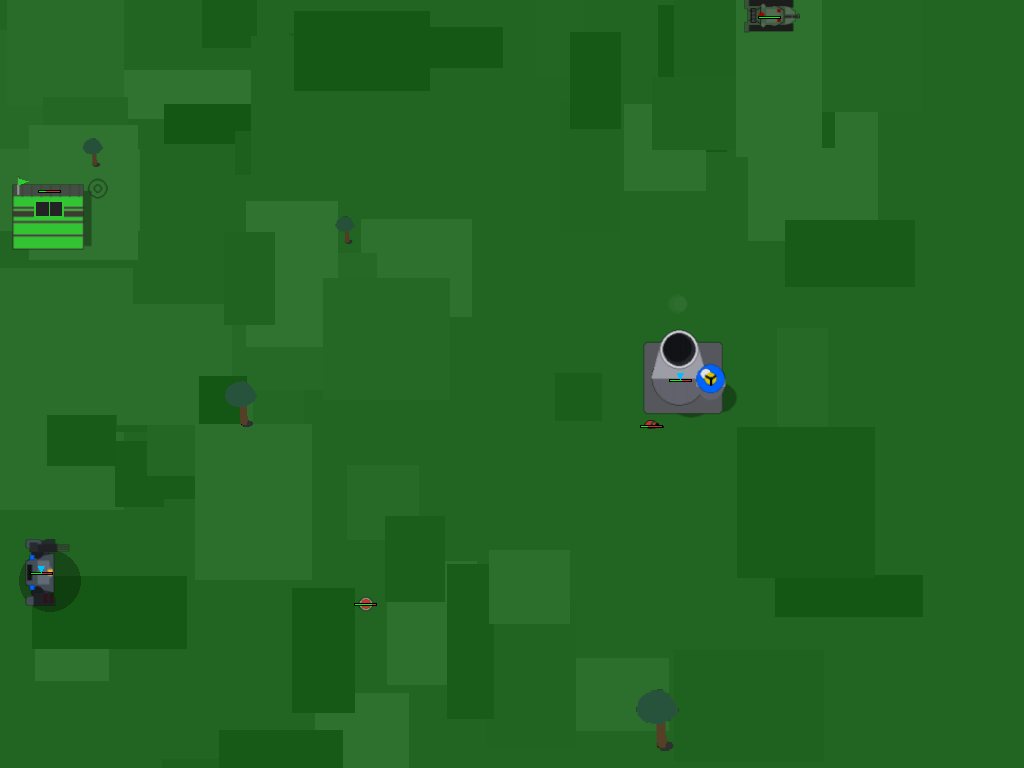APC_rus: (4, 144, 94, 234)
APC_usa: (647, 345, 713, 411)
Bastion: (16, 547, 65, 596)
PowerPlant: (349, 587, 379, 617)
Shotgunner: (741, 0, 796, 55)
Sniper: (636, 408, 666, 438)
